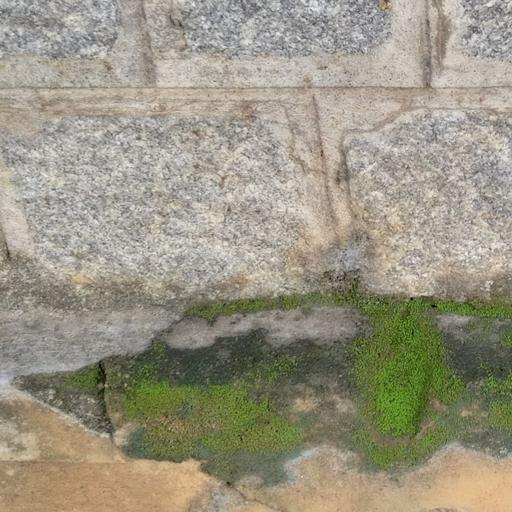algae: (68, 280, 512, 496)
